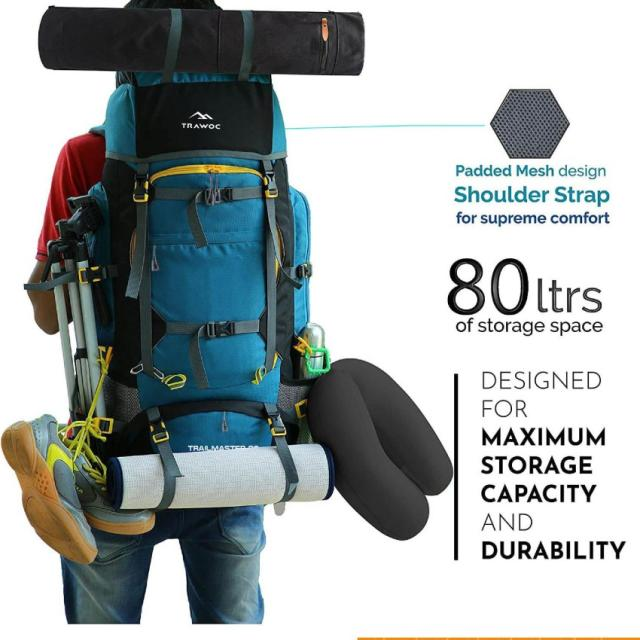backpack: (12, 15, 436, 556)
